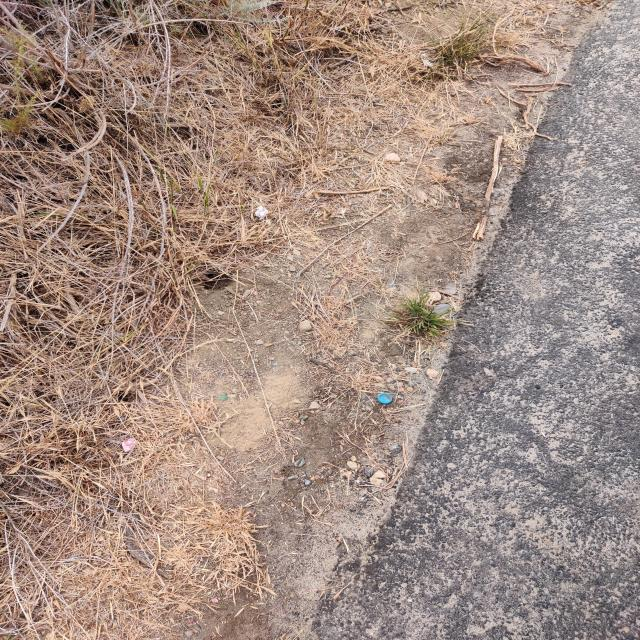litter: (369, 387, 400, 412)
